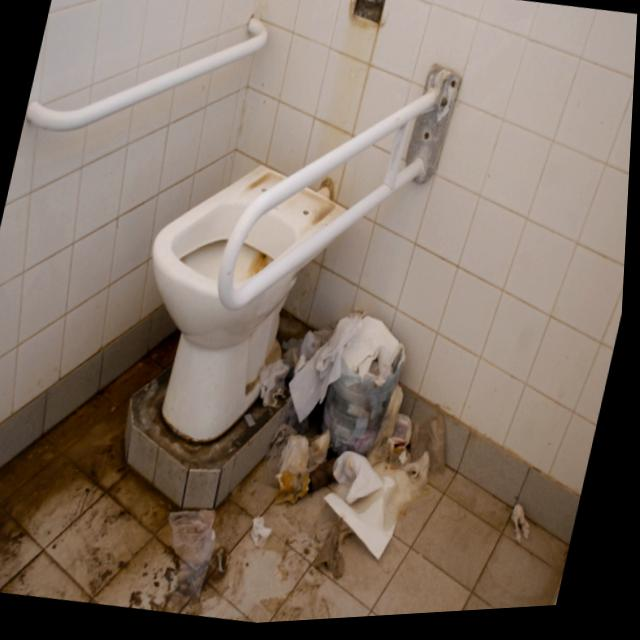dirty_area: (0, 304, 202, 619), (211, 128, 372, 293), (212, 560, 364, 625)
garbage: (302, 446, 427, 591), (141, 493, 227, 608), (260, 438, 323, 510), (500, 492, 552, 554), (248, 346, 294, 414), (239, 508, 278, 561)
overflow_bin: (275, 296, 412, 459)
